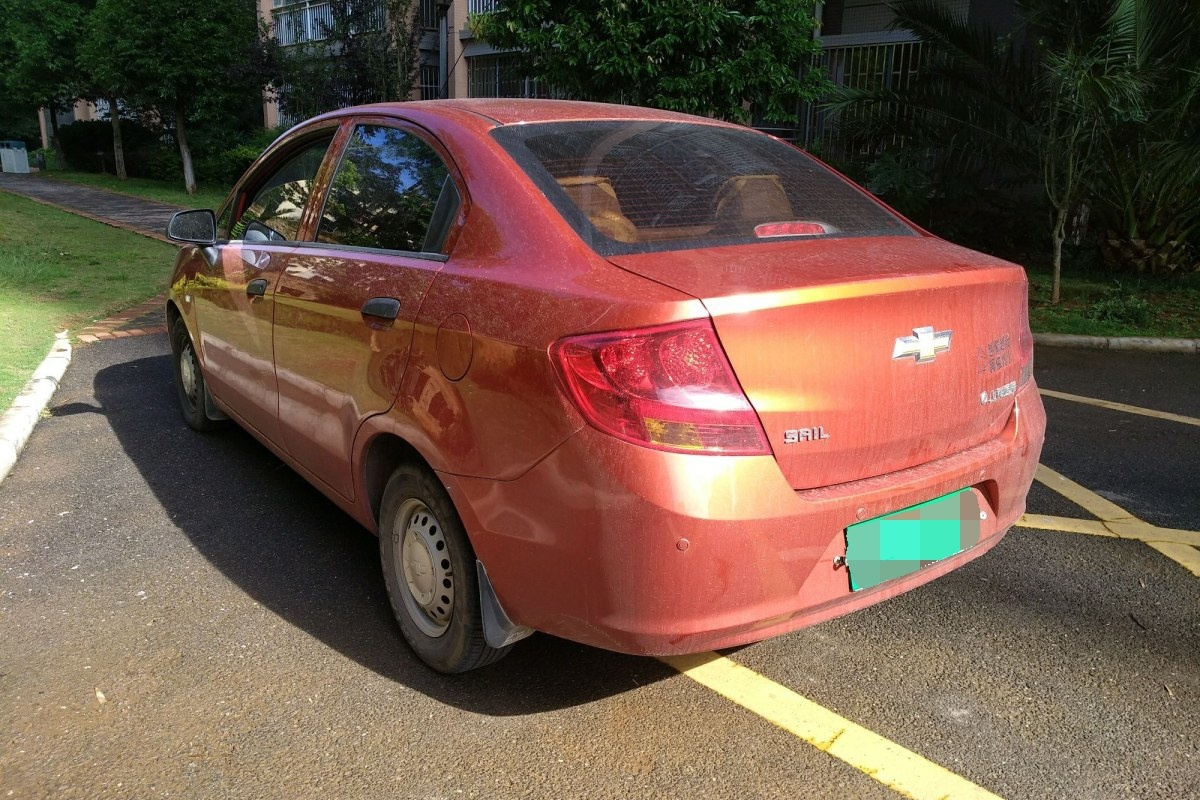family sedan: (168, 92, 1068, 707)
